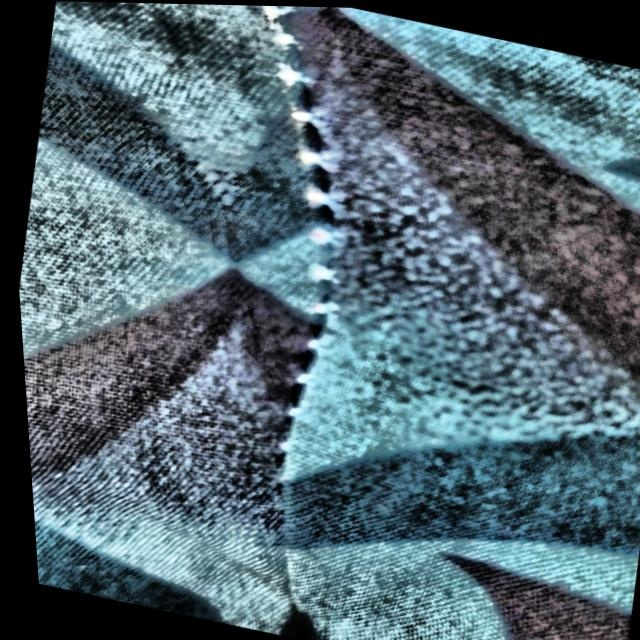Stitch: (172, 2, 441, 499)
